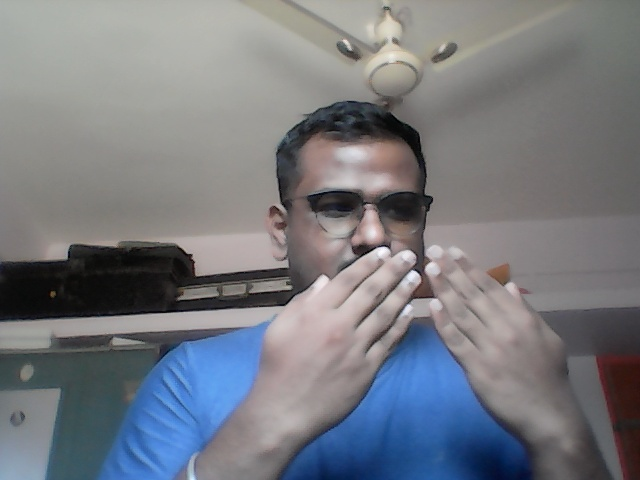Thank You: (257, 241, 572, 421)
